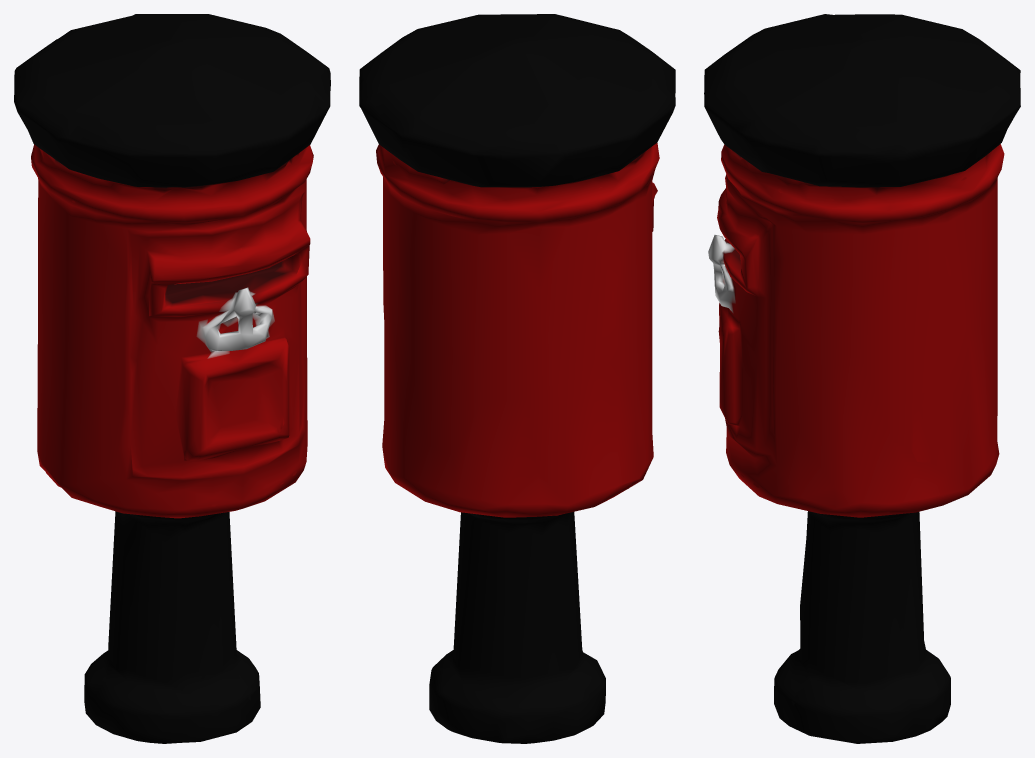
The model's file is gen3d-post-box-lod0.glb.
The picture shows the model from 3 angles, left to right: view 1: azimuth 30°, elevation 25°; view 2: azimuth 150°, elevation 25°; view 3: azimuth 270°, elevation 25°; orthographic projection.
Visible parts, largest first — view 1: part_0; view 2: part_0; view 3: part_0.
Part boxes in pixels (x1,y1,x2,y2): part_0: (14, 14, 330, 743); part_0: (359, 14, 675, 743); part_0: (704, 14, 1020, 743).
Bounding box in the file's own units: 0.4316 × 0.9986 × 0.4314.
